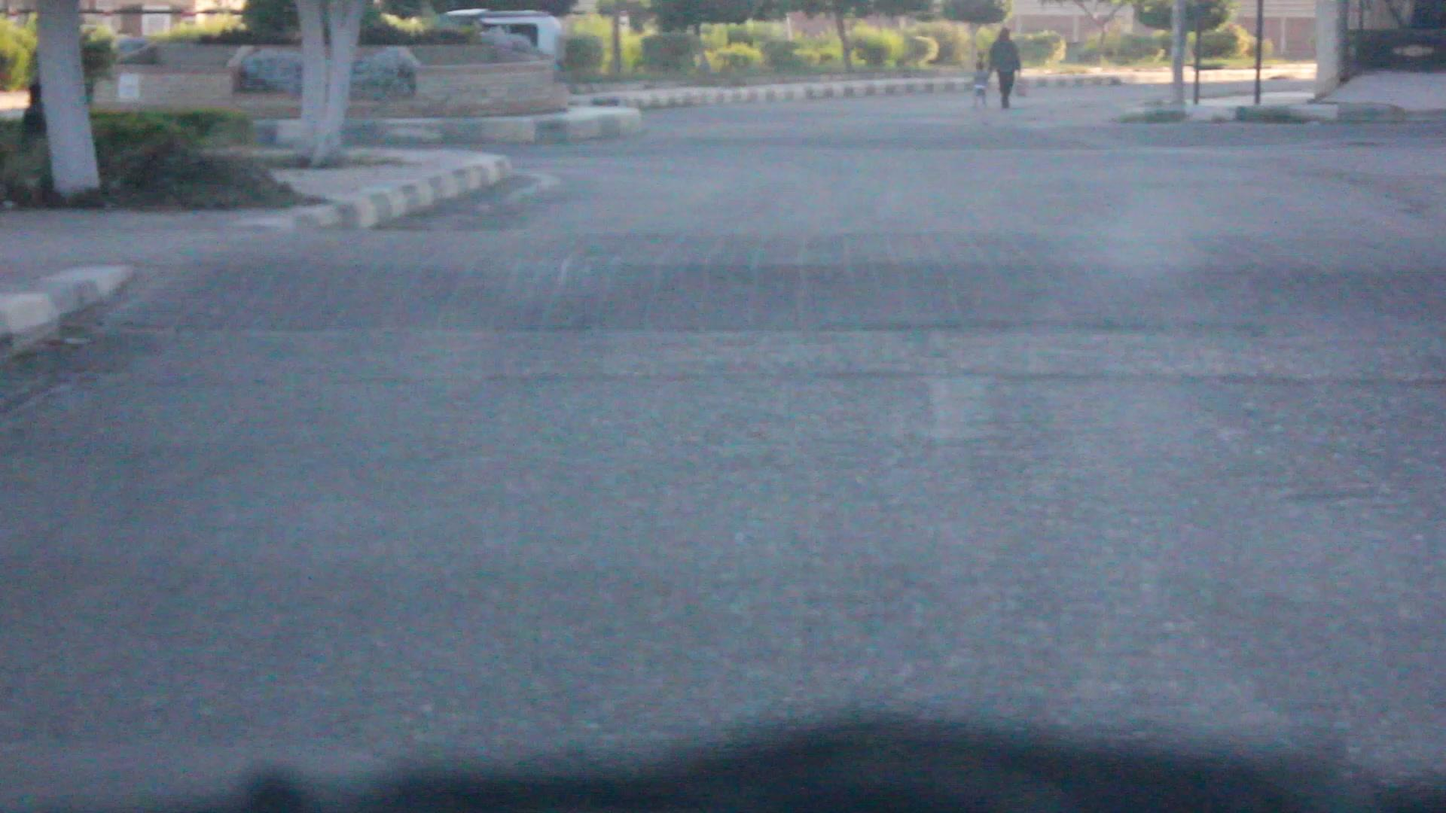Bump: (177, 211, 1446, 365)
